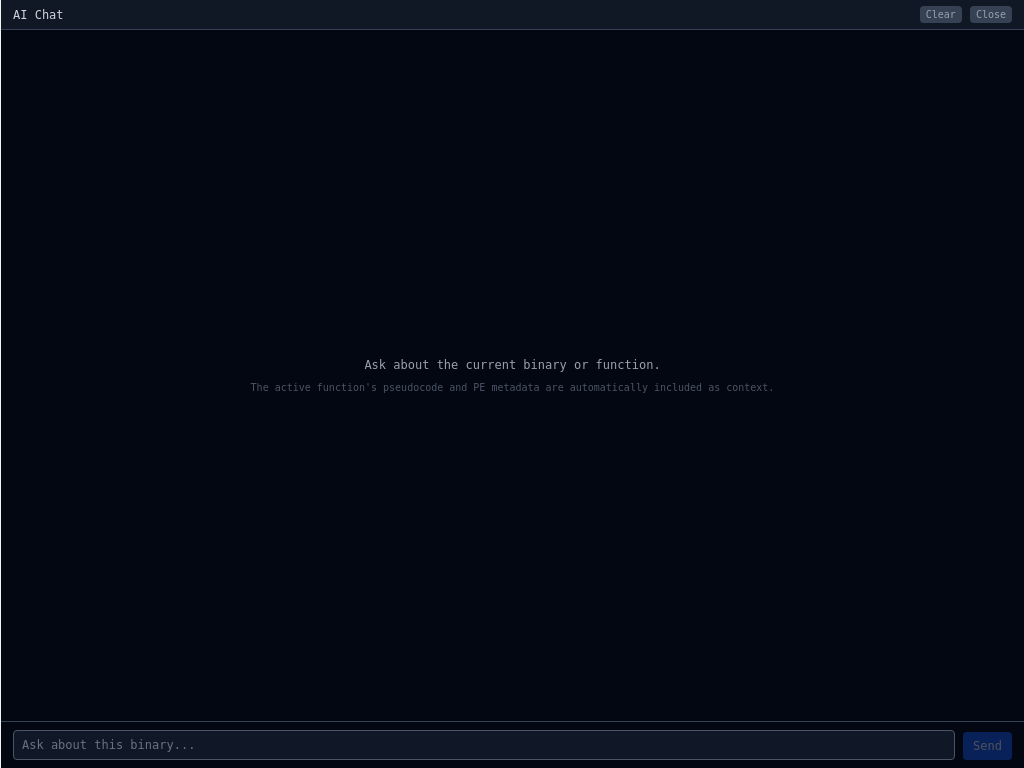
Test: the gate says which profile it looked at, and what is wrong with it › refuses a profile that HAS a key but no model, and says which field
Type "hello" into the text box with placeholder "Ask about this binary..." at (484, 745), box [13, 730, 955, 760]
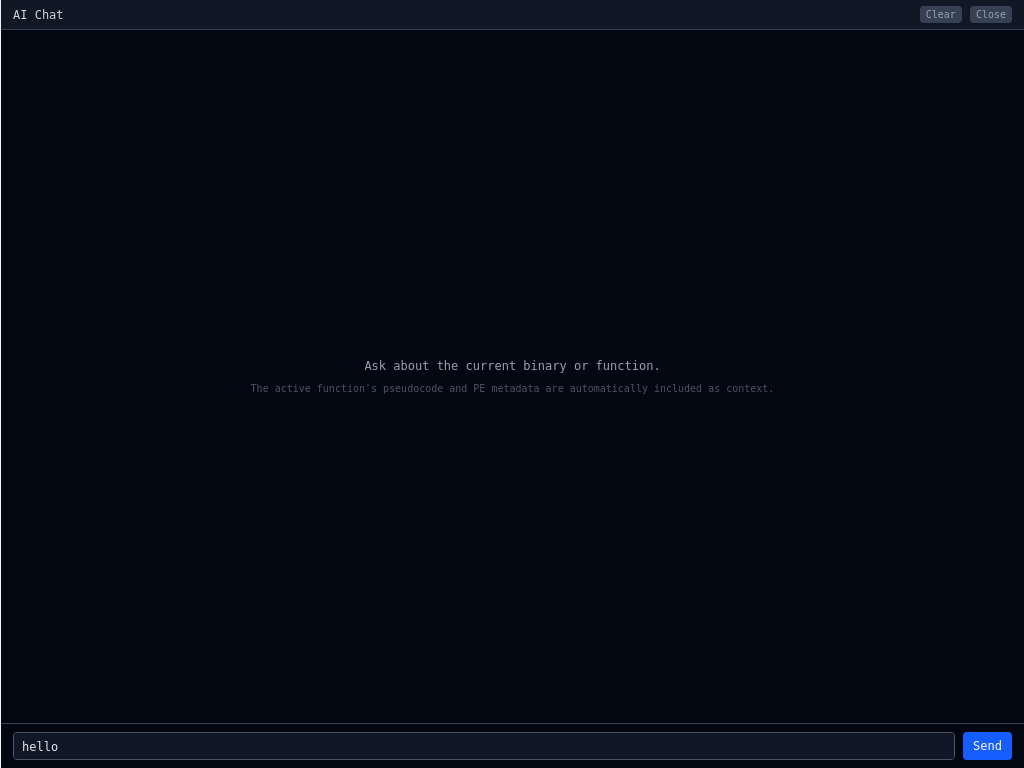
Click the button "Send" at (988, 746), box [963, 732, 1012, 760]
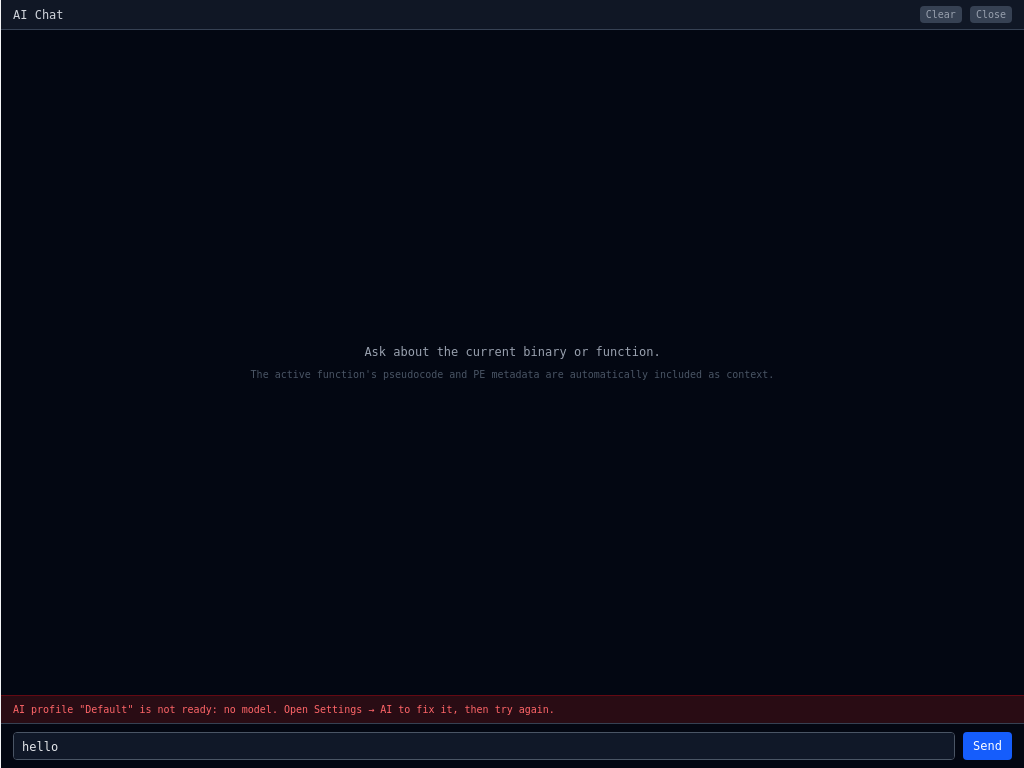
Check: the text "is not ready: no model." is shown, box [13, 704, 555, 715]
